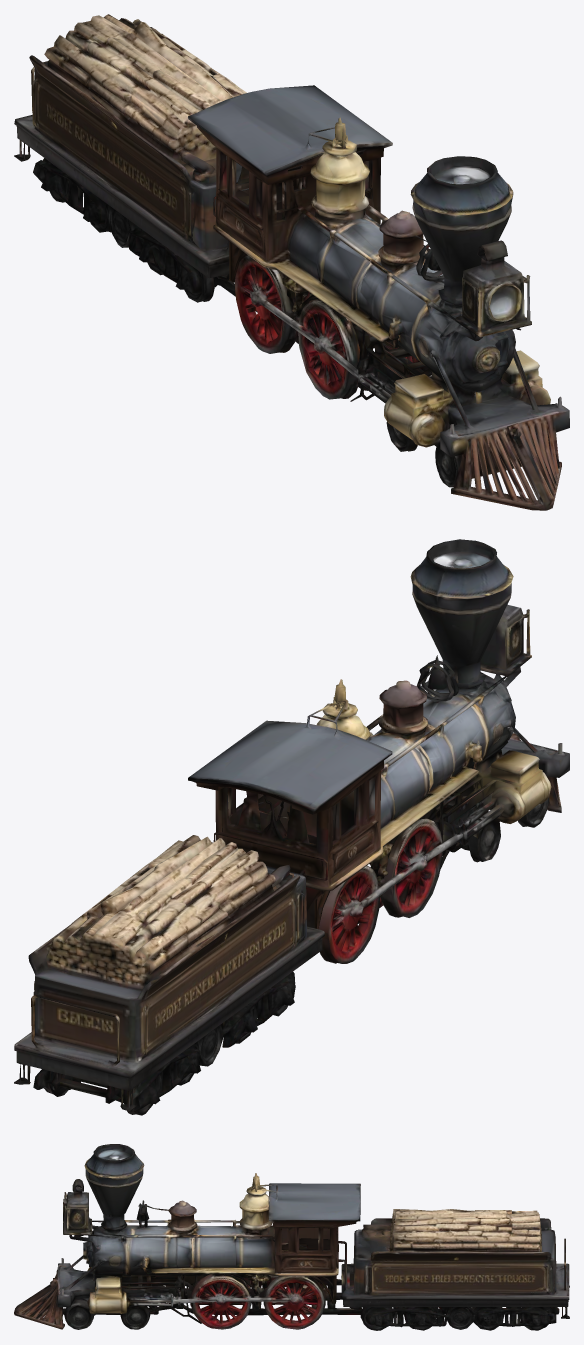
Rendered from steam_loco.glb.
3 views of the same model, one above another, from view 1: azimuth 30°, elevation 25°; view 2: azimuth 150°, elevation 25°; view 3: azimuth 270°, elevation 25° (orthographic). The views are drawn at different scales.
Parts seen in each view (by area): view 1: node_0; view 2: node_0; view 3: node_0.
Part boxes in pixels (x1,y1,x2,y2): node_0: (14, 14, 569, 510); node_0: (14, 539, 569, 1115); node_0: (14, 1144, 569, 1330).
Size of the model in its own units: 0.1927 by 0.3789 by 1.15.
Materials: 1 (1 with a texture image).
